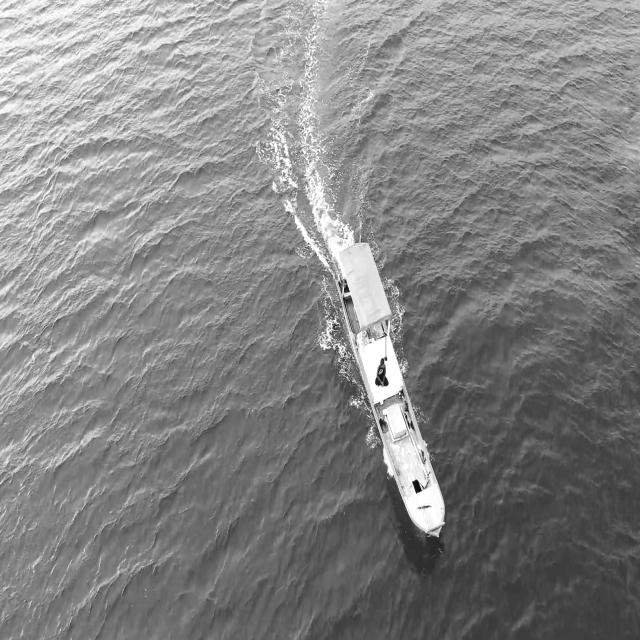ship: (332, 240, 449, 544)
